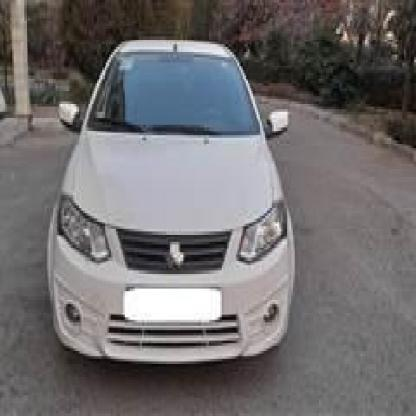Car: (43, 36, 298, 359)
